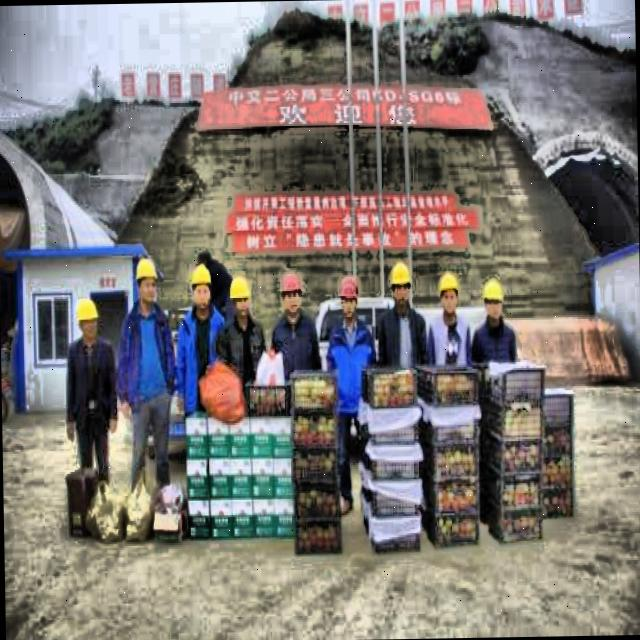helmet: (71, 292, 99, 342), (188, 258, 212, 316), (387, 260, 413, 312), (135, 253, 160, 305), (437, 270, 462, 322), (482, 274, 506, 328), (228, 272, 252, 324), (278, 270, 303, 316), (336, 274, 360, 317)
